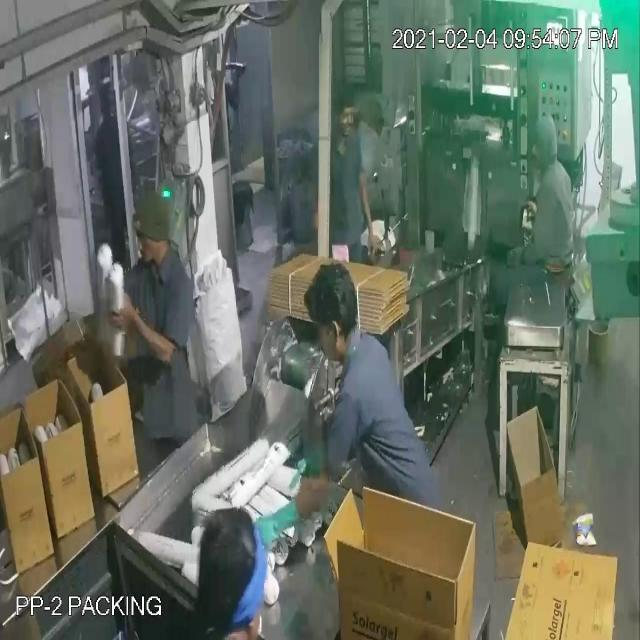No_Gloves: (26, 68, 366, 532)
